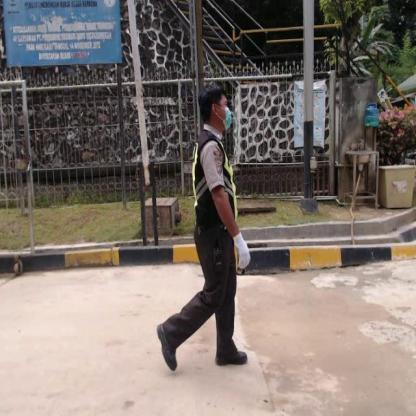boots: (154, 323, 180, 373), (214, 347, 248, 370)
gloves: (232, 232, 252, 270)
mask: (224, 108, 233, 131)
